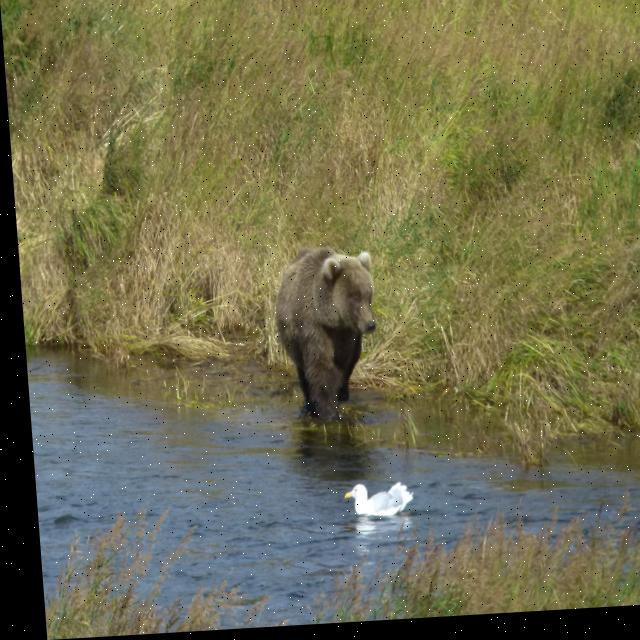bear face: (270, 255, 377, 423)
